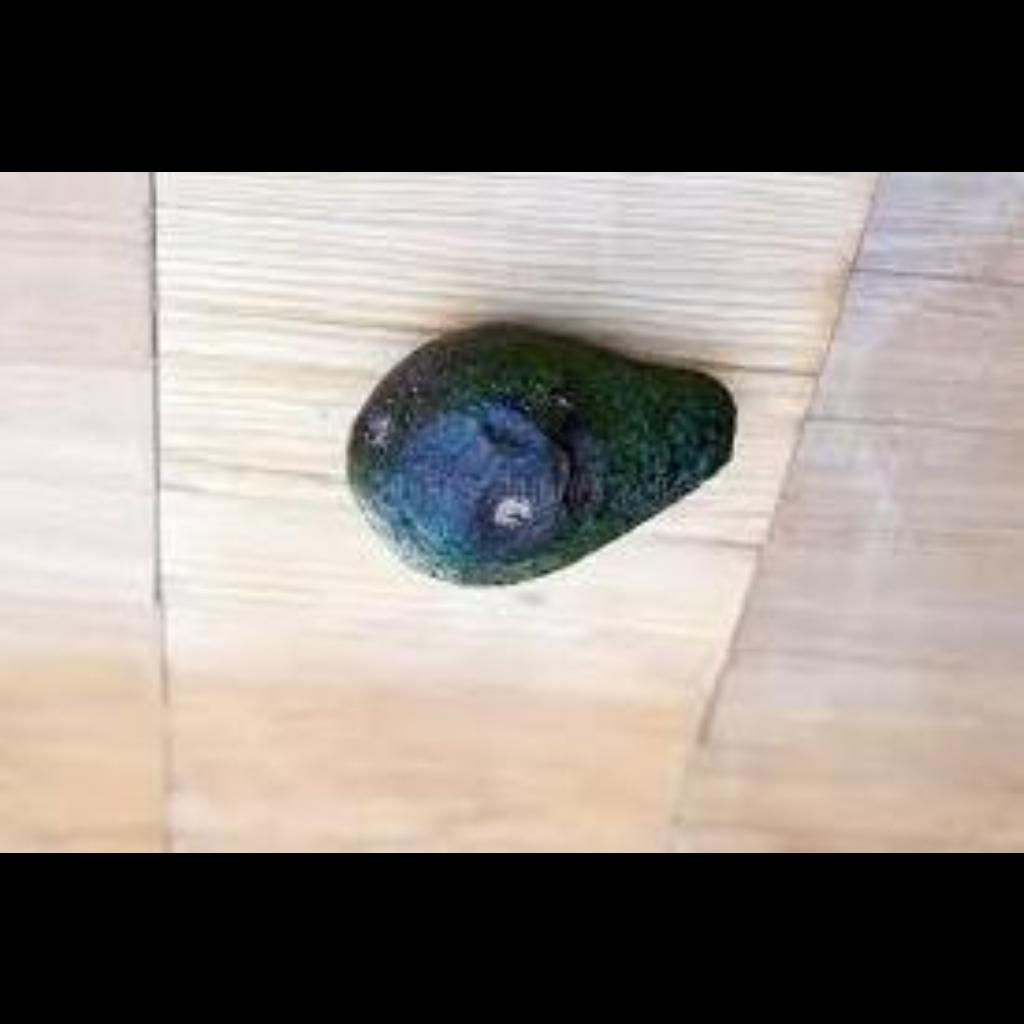Anthracnose: (335, 337, 707, 579)
